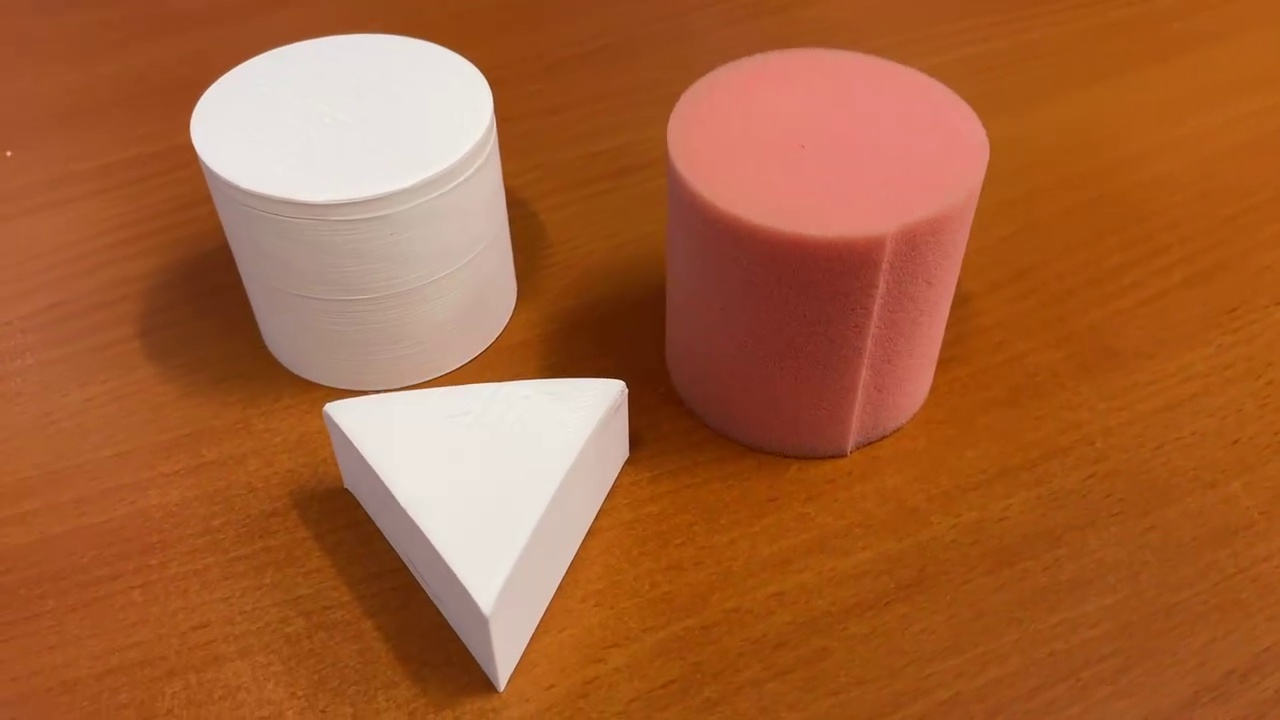Cylinder: (658, 43, 998, 462), (183, 22, 526, 392)
Triangle_short: (315, 371, 635, 692)
